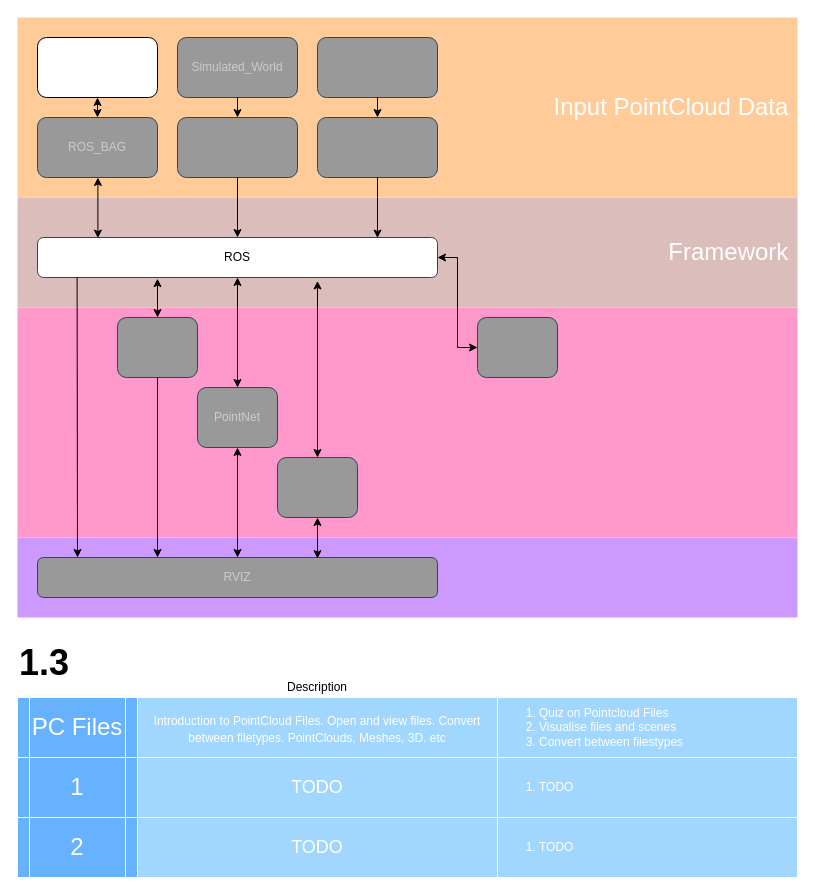
This 815x895 diagram has some shape labels left out. The shapes that lost their labels are listed below. From the top down, each one's box as (x1, y1, x2, y2) in pixels, then its label:
(36, 36, 158, 98): Pointcloud_Files
(316, 36, 438, 98): Real_World
(176, 116, 298, 178): Gazebo
(316, 116, 438, 178): LiDAR_Sensor
(116, 316, 198, 378): Open3D
(476, 316, 558, 378): Actions
(17, 307, 797, 537): Process
(17, 537, 797, 617): Visualise
(497, 677, 797, 697): Tasks
